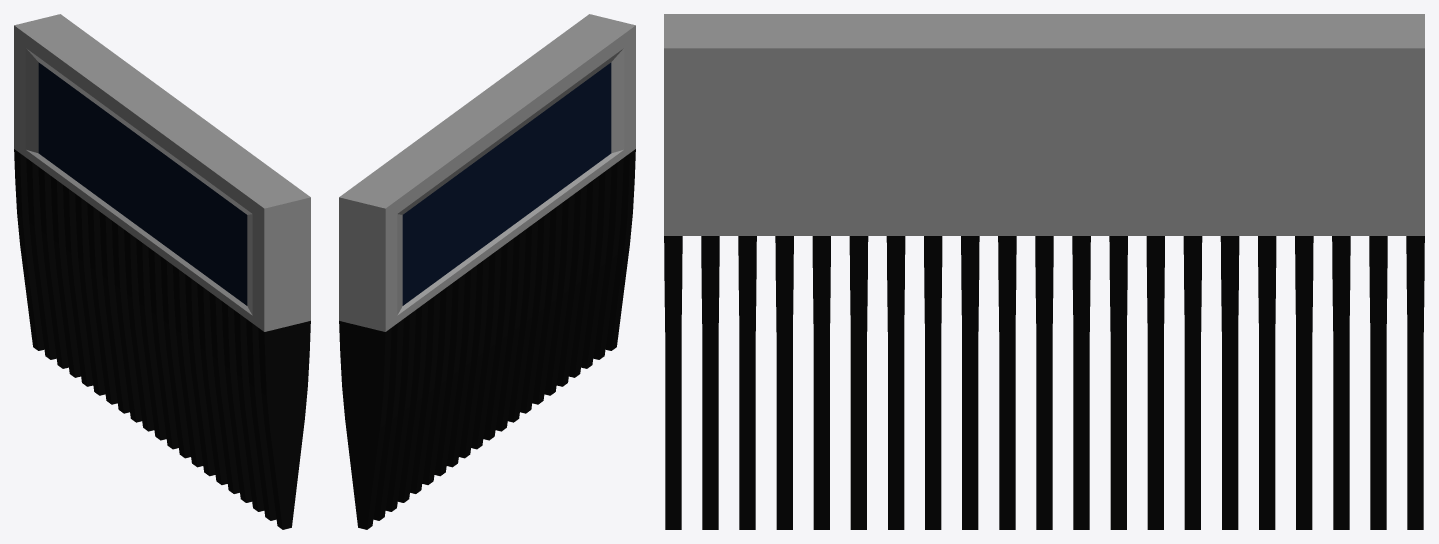
The model's file is MESH_GATE.FBX.
3 renders of one model, left to right at view 1: azimuth 30°, elevation 25°; view 2: azimuth 150°, elevation 25°; view 3: azimuth 270°, elevation 25°, orthographic. The views are drawn at different scales.
Visible parts, largest first — view 1: Box006; view 2: Box006; view 3: Box006.
Boxes of the visible parts, box(x1,y1,x2,y2) form: Box006: box(14, 14, 310, 529); Box006: box(339, 14, 635, 529); Box006: box(664, 14, 1424, 529).
Size of the model in its own units: 15 by 101 by 140.
